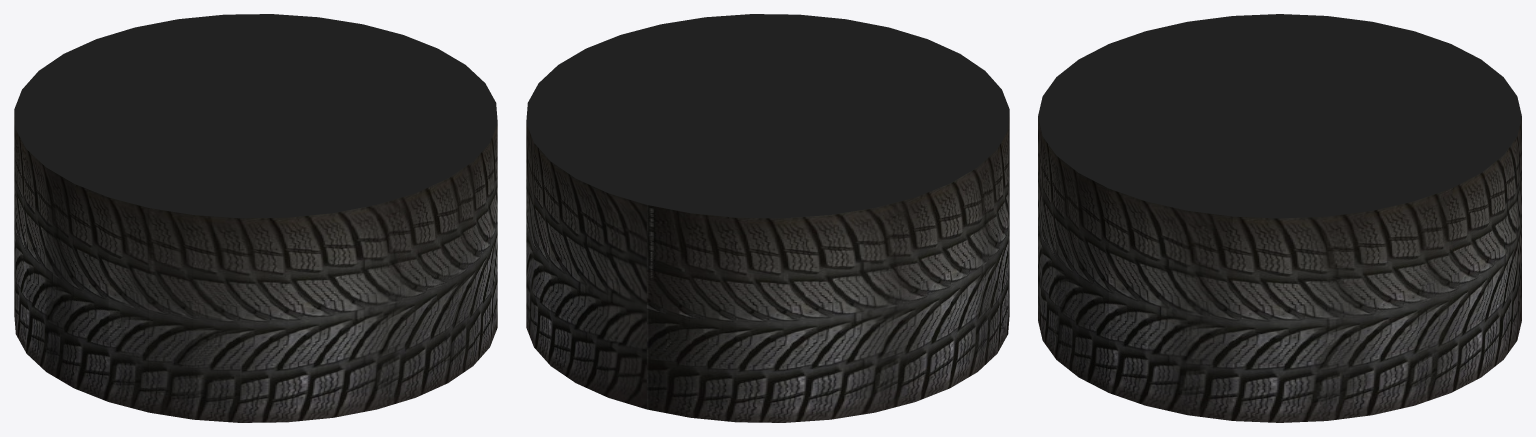
The model's file is wheel.dae.
3 views of the same model, side by side, from view 1: azimuth 30°, elevation 25°; view 2: azimuth 150°, elevation 25°; view 3: azimuth 270°, elevation 25° (orthographic).
Parts seen in each view (by area): view 1: 柱体; view 2: 柱体; view 3: 柱体.
Part boxes in pixels (<box>): 柱体: <box>14,14,497,422</box>; 柱体: <box>526,14,1009,422</box>; 柱体: <box>1038,14,1521,422</box>.
Bounding box in the file's own units: 0.118 × 0.118 × 0.055.
Materials: 2 (1 with a texture image).
